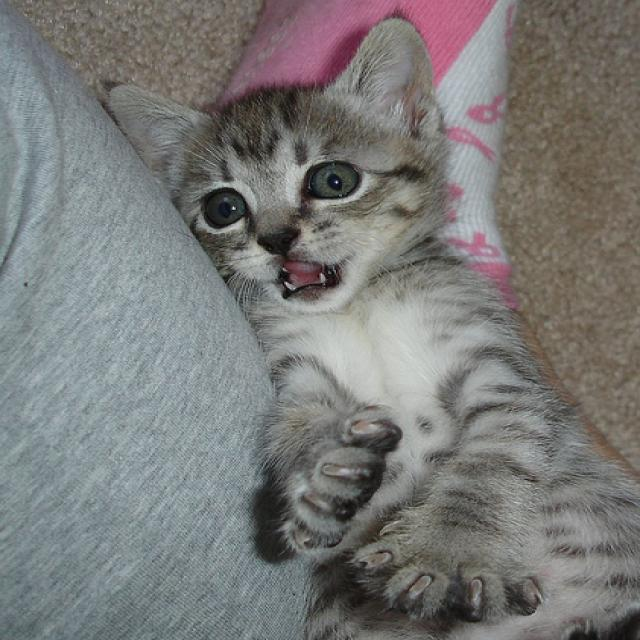left eye: (302, 157, 362, 201)
